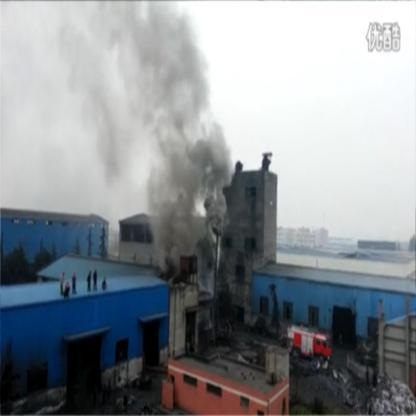smoke: (108, 1, 196, 92), (149, 160, 192, 258), (58, 26, 104, 104), (135, 92, 204, 138), (197, 142, 225, 242)
